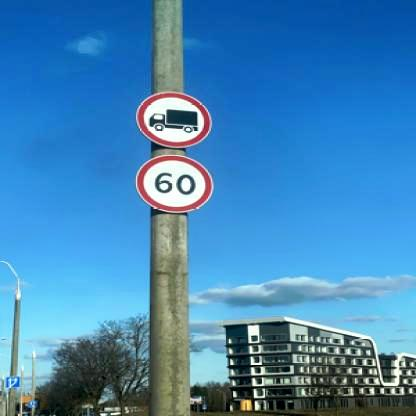Speed Limit -60-: (137, 152, 213, 216)
